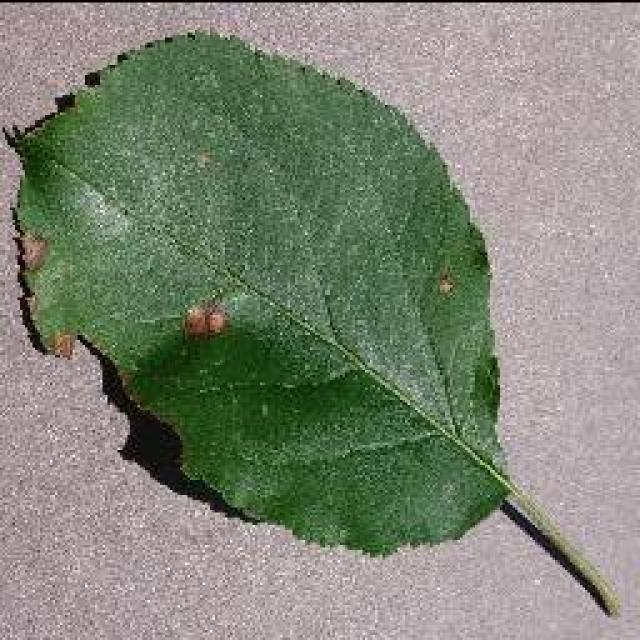apple black rot: (0, 25, 618, 617)
